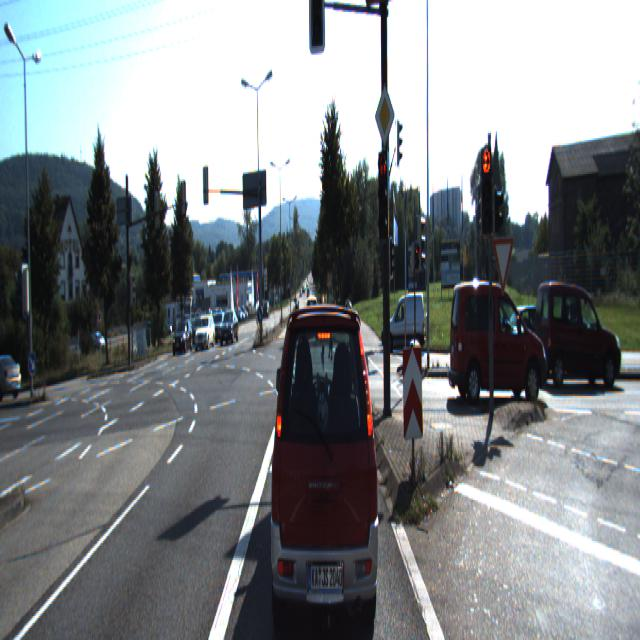Car: (267, 276, 381, 635), (449, 275, 550, 404), (533, 269, 623, 381), (488, 298, 560, 373), (382, 288, 427, 354), (172, 321, 193, 355), (195, 316, 215, 350), (219, 310, 239, 344)
